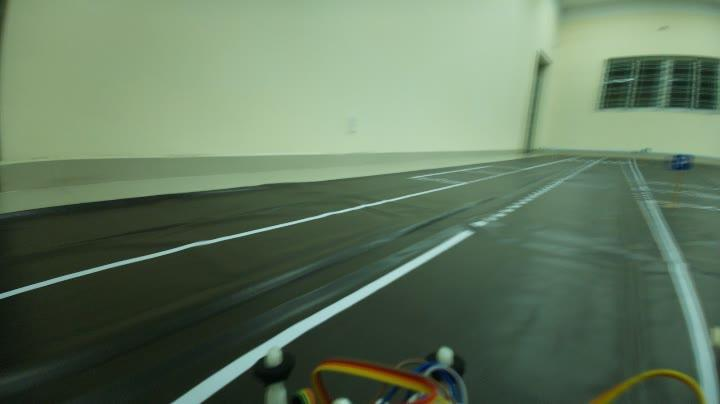parking: (668, 147, 692, 176)
